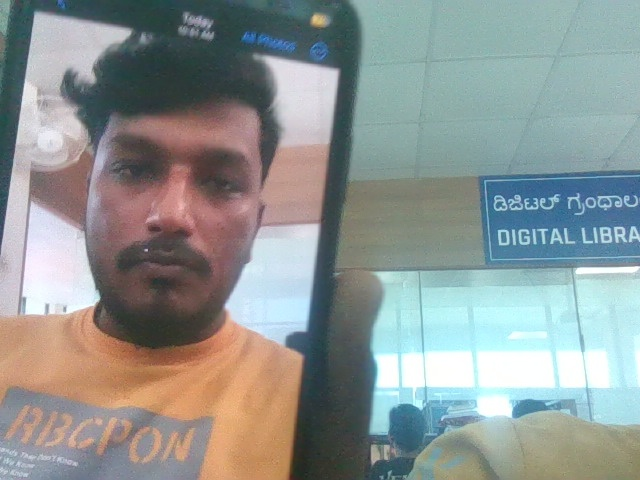fake: (56, 8, 298, 351)
